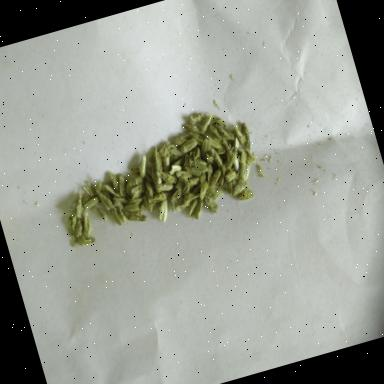pbw: (69, 192, 89, 221), (122, 173, 146, 196), (95, 186, 115, 212), (238, 122, 255, 152), (202, 130, 223, 154), (78, 212, 96, 240), (125, 208, 149, 227), (234, 162, 254, 184), (154, 199, 172, 223), (136, 154, 152, 180), (150, 151, 166, 177), (196, 116, 216, 136), (128, 182, 150, 200), (115, 173, 130, 198), (214, 122, 231, 144), (190, 198, 207, 220), (178, 138, 200, 154), (74, 232, 96, 248), (204, 194, 220, 216), (158, 152, 174, 174), (147, 191, 170, 206), (229, 179, 248, 197), (102, 182, 120, 201), (210, 146, 224, 170), (67, 213, 82, 235), (157, 140, 175, 158), (207, 170, 225, 188), (81, 196, 101, 212), (190, 154, 210, 170), (208, 122, 224, 142), (172, 133, 193, 148), (202, 163, 216, 185), (184, 200, 201, 218), (169, 142, 186, 160), (160, 170, 178, 186), (184, 121, 202, 137), (190, 130, 206, 148), (190, 162, 210, 176), (222, 150, 236, 170), (152, 174, 166, 194), (209, 186, 226, 202), (166, 162, 184, 177), (196, 182, 211, 200), (96, 204, 110, 223), (72, 219, 86, 238), (234, 123, 246, 145), (110, 208, 123, 228), (175, 168, 193, 182), (237, 188, 255, 202), (182, 192, 200, 206), (146, 148, 160, 166), (156, 181, 175, 194), (109, 170, 120, 192), (230, 152, 242, 172), (230, 135, 242, 154), (168, 188, 184, 202), (113, 194, 129, 208), (65, 216, 76, 236), (200, 138, 213, 154), (187, 112, 204, 124), (127, 196, 144, 208), (145, 179, 155, 199), (84, 184, 96, 200), (180, 182, 193, 196), (176, 201, 191, 213), (124, 202, 140, 213), (214, 117, 227, 130), (92, 178, 104, 192), (237, 150, 249, 164), (224, 171, 238, 183), (118, 209, 128, 224), (169, 200, 178, 213), (130, 164, 141, 174), (198, 172, 207, 184)
